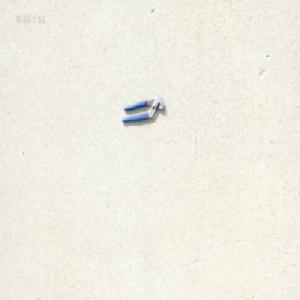Pliers: (119, 95, 165, 124)
